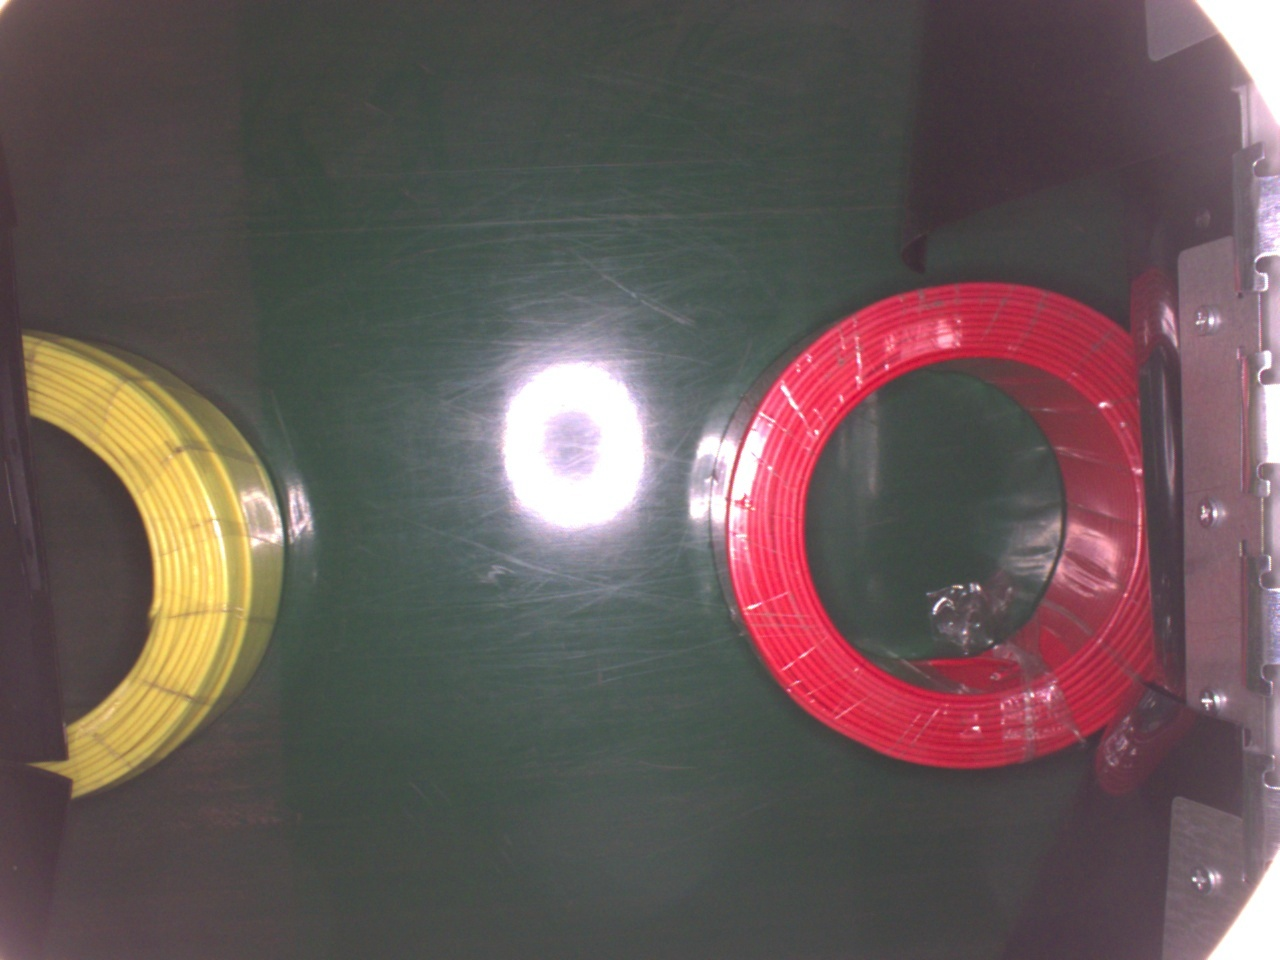red: (702, 280, 1173, 769)
yellow: (23, 320, 288, 802)
